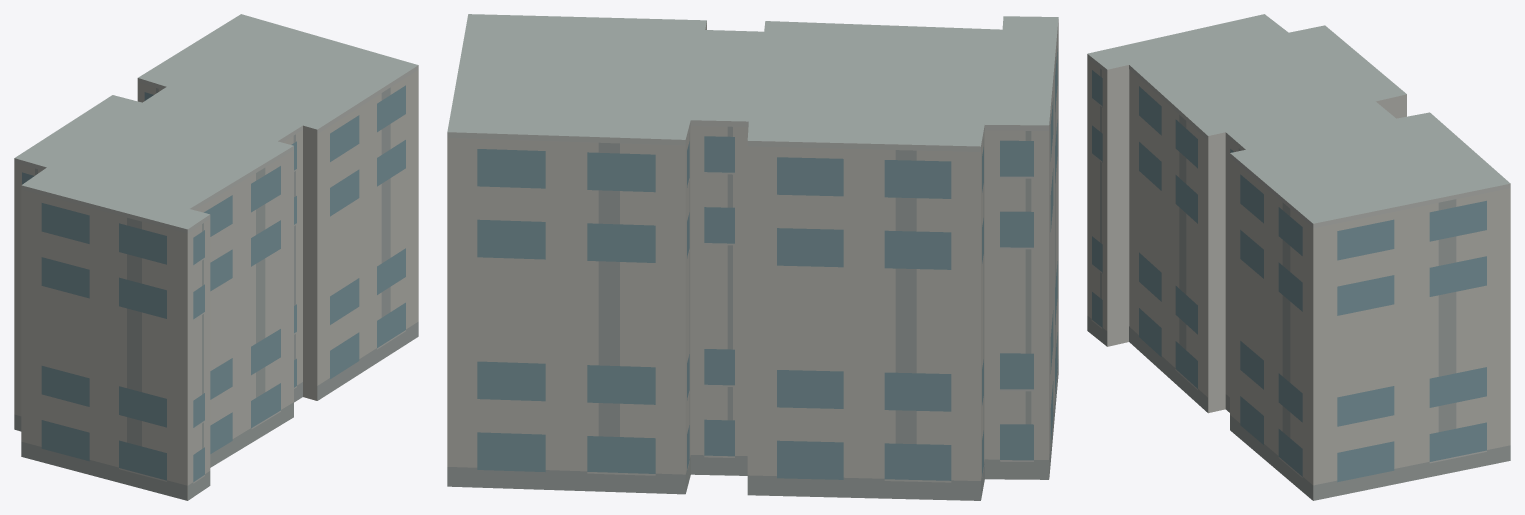
File: survey-upis-32676267.glb
3 renders of one model, left to right at view 1: azimuth 30°, elevation 25°; view 2: azimuth 150°, elevation 25°; view 3: azimuth 270°, elevation 25°, orthographic. The views are drawn at different scales.
Visible parts, largest first — view 1: survey-upis-32676267.tmp; view 2: survey-upis-32676267.tmp; view 3: survey-upis-32676267.tmp.
Part boxes in pixels (x1=…): survey-upis-32676267.tmp: x1=14, y1=14, x2=418, y2=500; survey-upis-32676267.tmp: x1=447, y1=14, x2=1058, y2=500; survey-upis-32676267.tmp: x1=1087, y1=14, x2=1510, y2=500.
Bounding box in the file's own units: 24.77 × 15.25 × 21.13.
